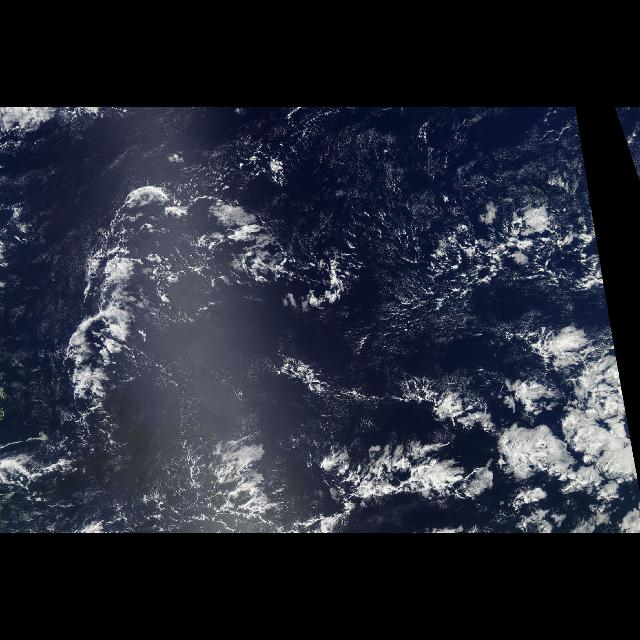Fish: (56, 178, 342, 464)
Flower: (408, 319, 636, 501)
Sugar: (322, 116, 540, 208)
